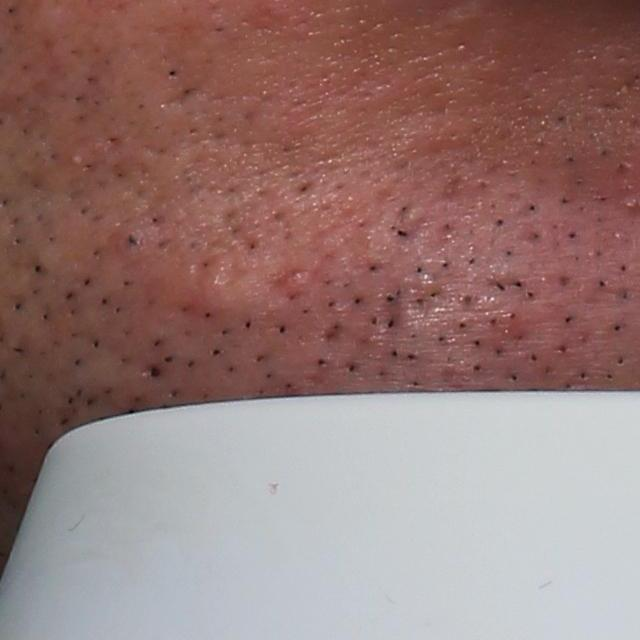hypertrophic_scar: (140, 244, 294, 335)
